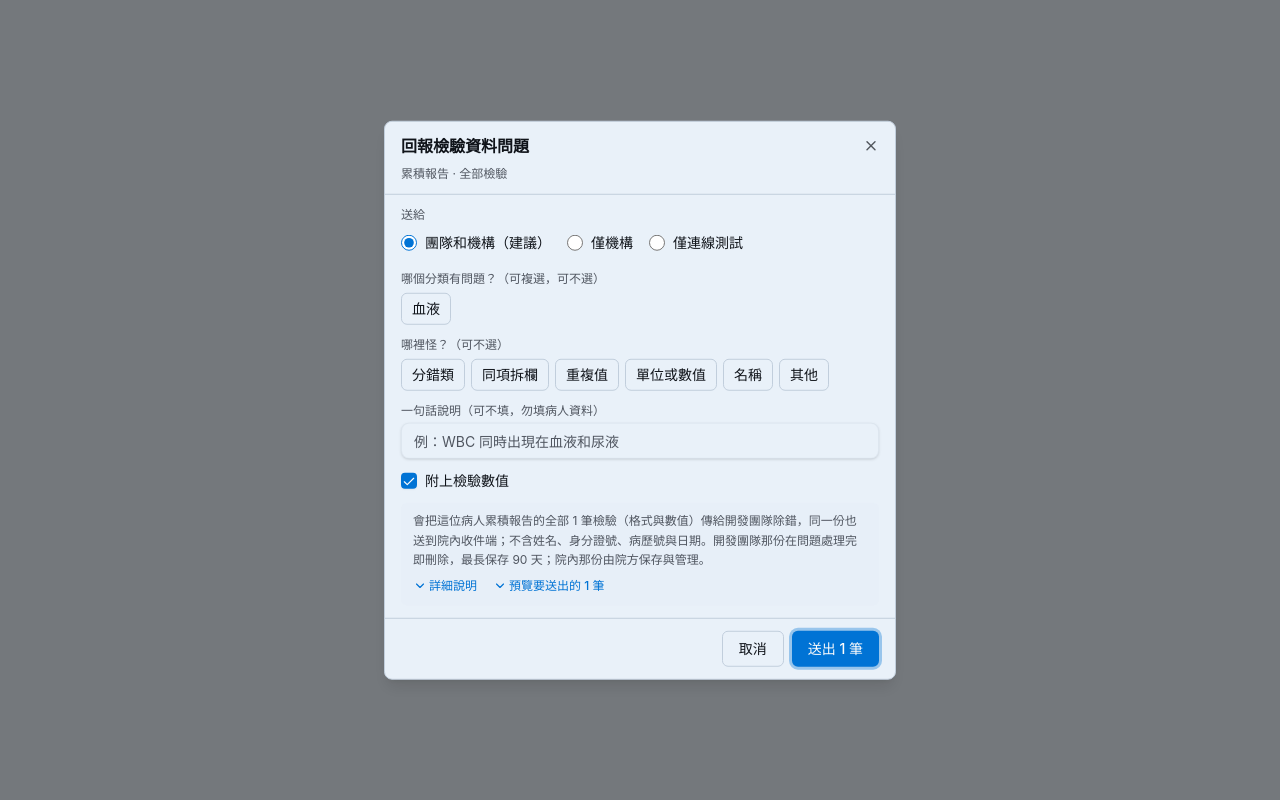
Scenario: LabDataReportDialog — 送給 on ?site=vghtpe › once the hospital Gateway is set up › words the full disclosure for where the report goes
Click the button "詳細說明".
click(445, 585)  # box [413,573,477,597]
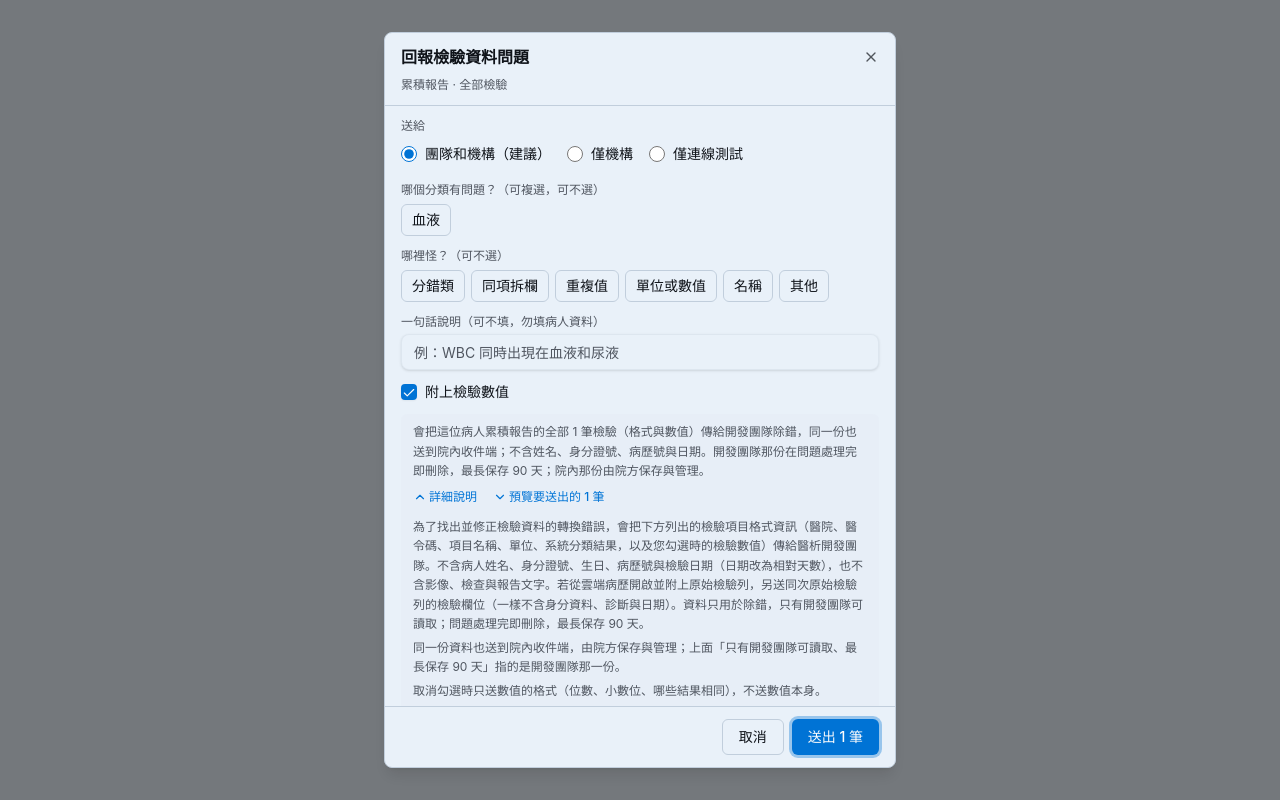
Expected: the text "傳給醫析開發團隊。" is shown, [413,518,863,631]
Expected: the text "同一份資料也送到院內收件端，由院方保存與管理；上面「只有開發團隊可讀取、最長保存 90 天」指的是開發團隊那一份。" is shown, [413,638,867,676]
僅機構: nothing that says the team gets it, reads it or deletes it.
Click the radio button labelled "僅機構".
click(575, 154)  # box [567,146,583,162]
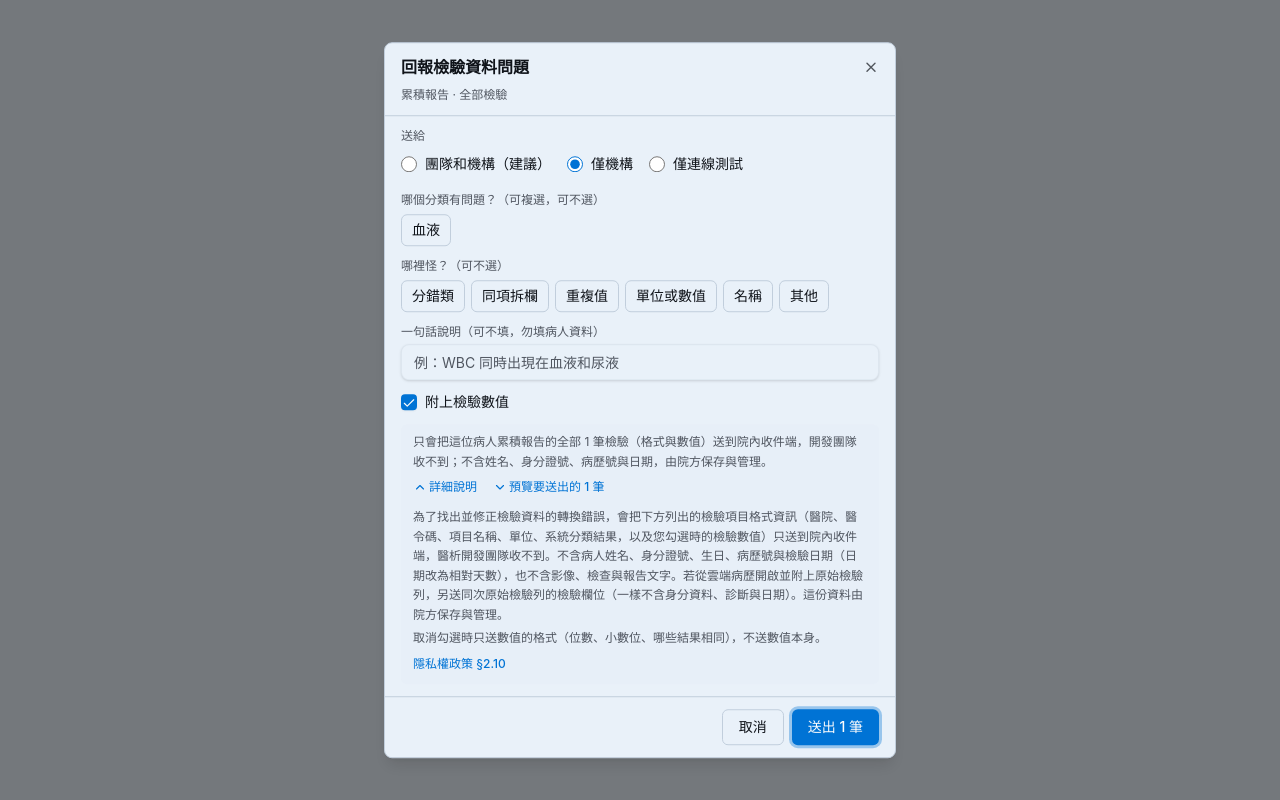
Expected: the text "只送到院內收件端，醫析開發團隊收不到" is shown, [413,509,863,622]
Expected: the text "只有開發團隊可讀取" is gone
Expected: the text "傳給醫析開發團隊" is gone
